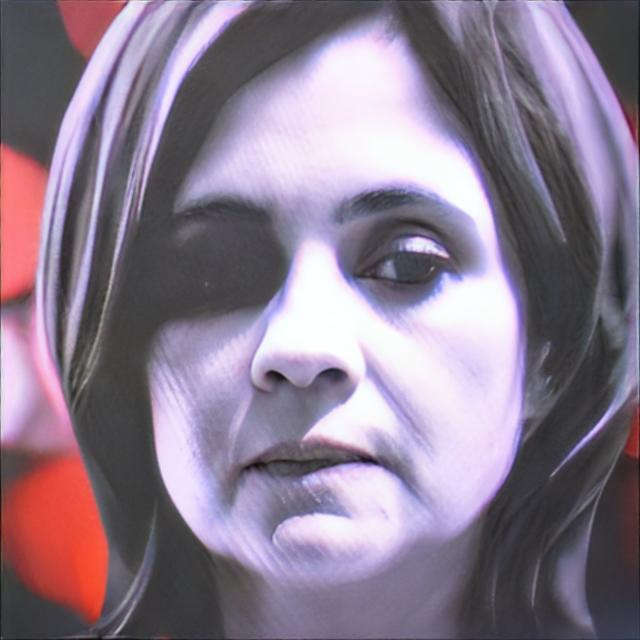neutral: (134, 41, 536, 604)
